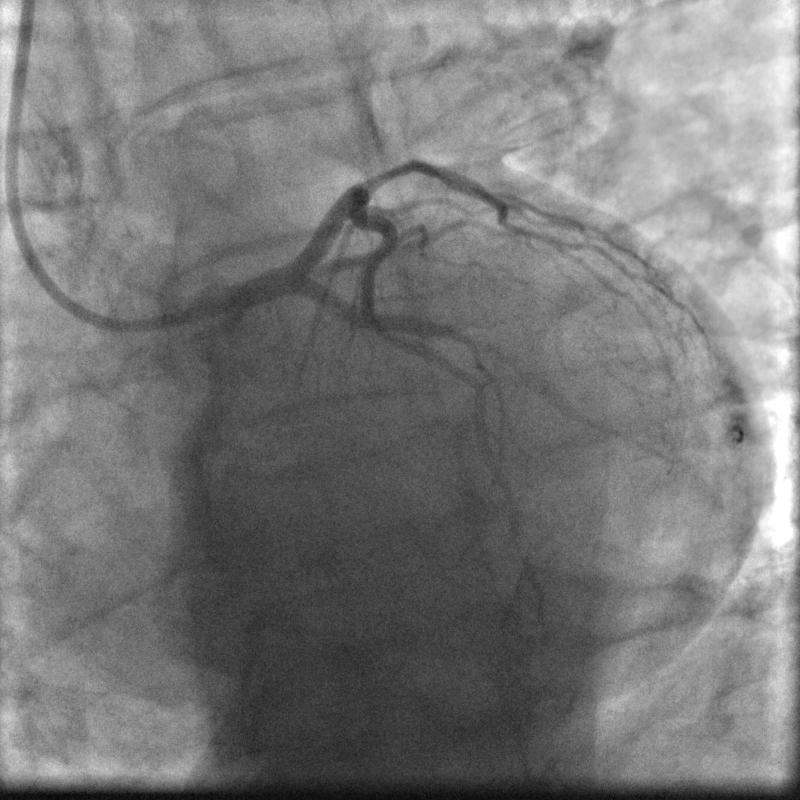Stenosis: (355, 149, 421, 188)
